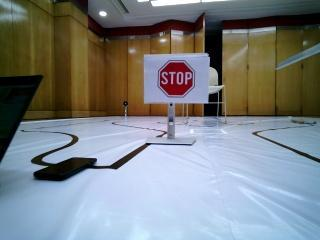stop: (145, 54, 207, 103)
